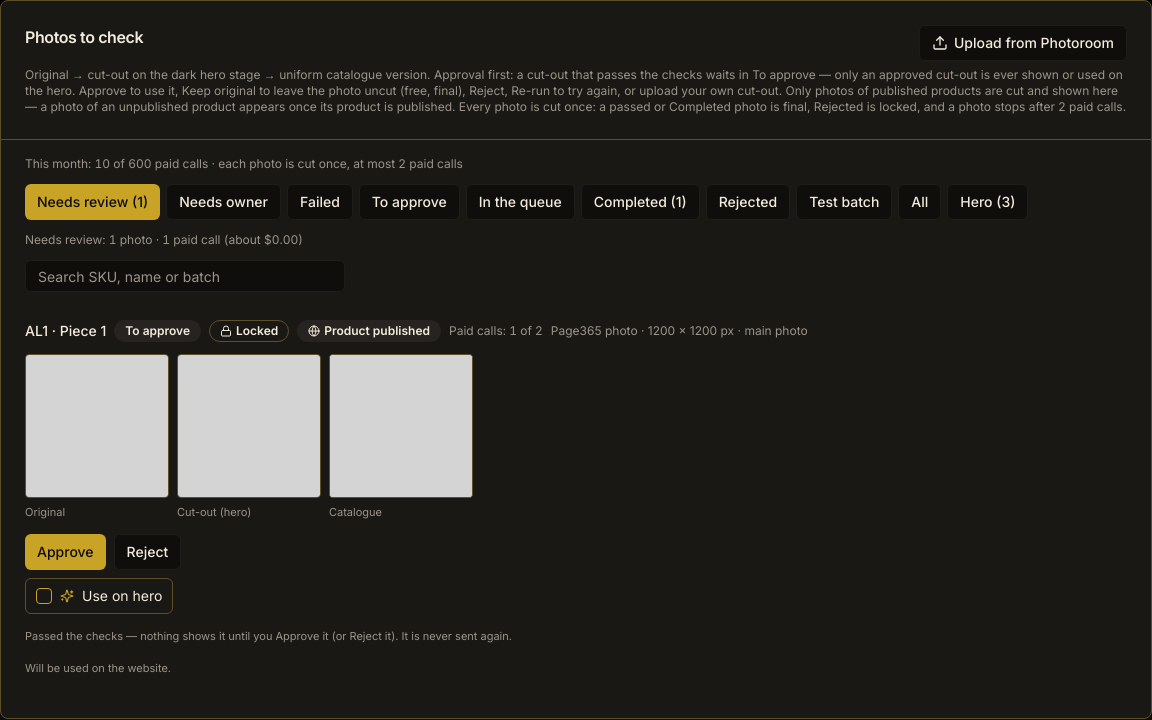
Test: Use on hero — the tick › a usable cut-out: an admin ticks it — one call, a toast, the list refreshed
What coordinates should you click on to do the following:
click the checkbox
I would click on:
 (44, 596)
Its box is [36,588,52,604].
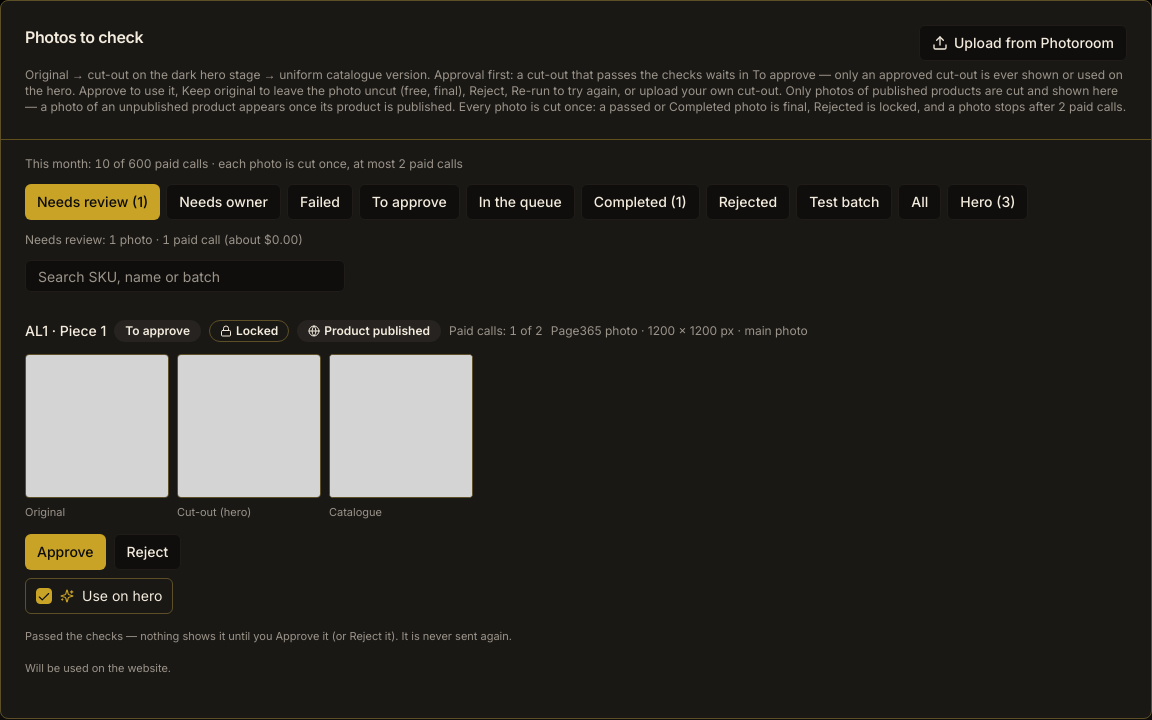
Expected: the checkbox has attribute data-state="checked", [36,588,52,604]
